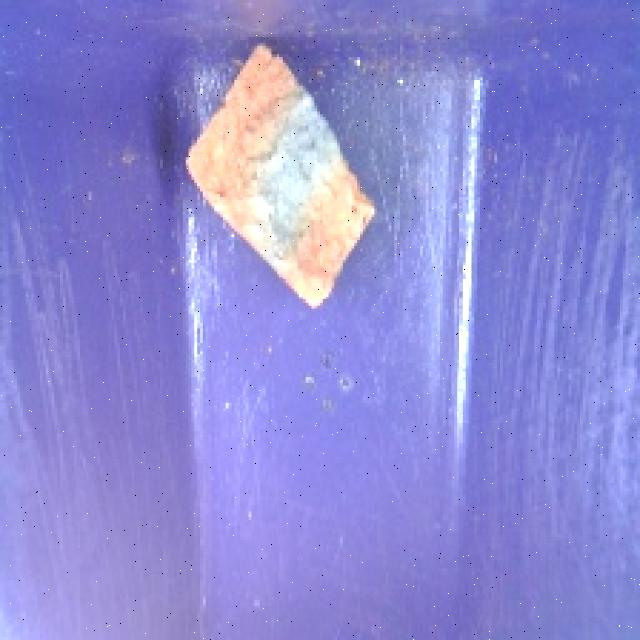brick: (171, 27, 392, 316)
